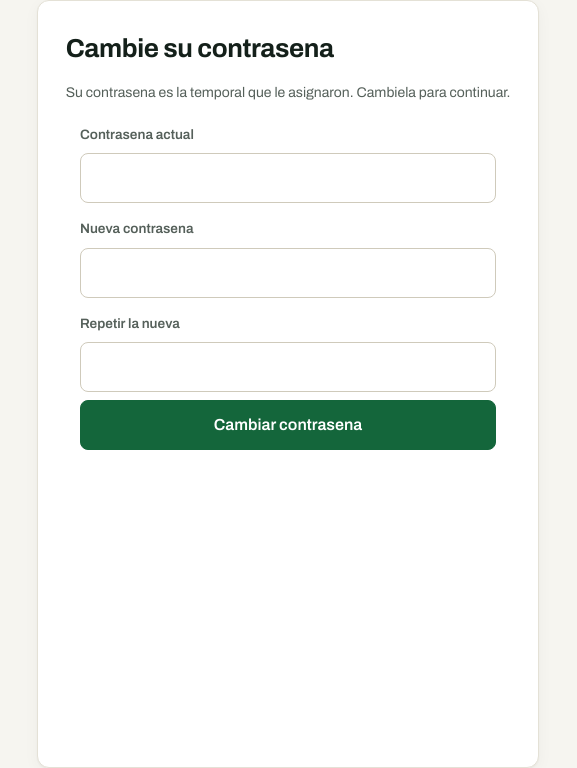
Test case: CambiarClave › si el servidor dice que la actual no coincide, lo muestra
This screenshot has width=577, height=768.
Type "equivocada" into the password field labelled "Contrasena actual" at x=288, y=178, box [80,153,496,203]
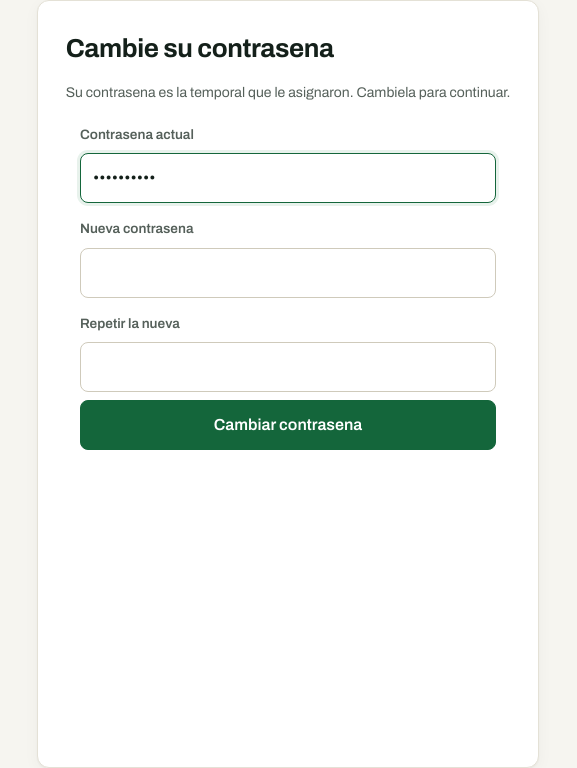
Type "unaClaveNueva" into the password field labelled "Nueva contrasena" at x=288, y=273, box [80,248,496,298]
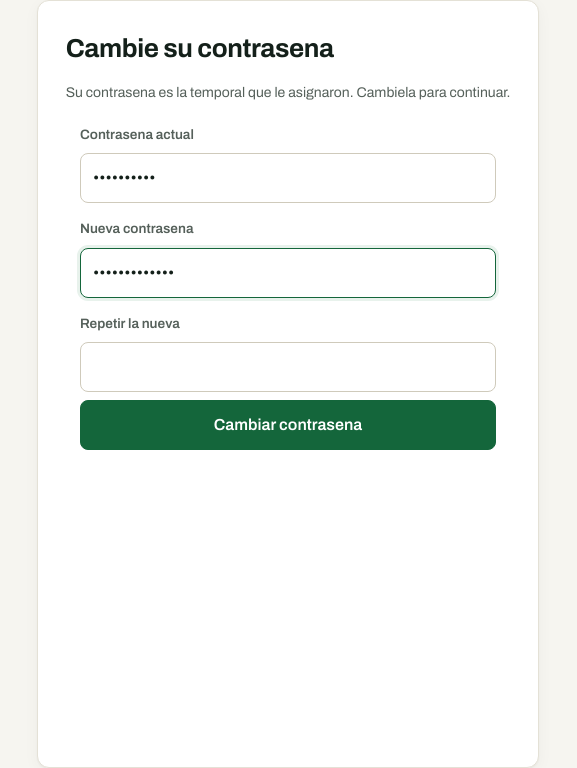
Type "unaClaveNueva" into the password field labelled "Repetir la nueva" at x=288, y=367, box [80,342,496,392]
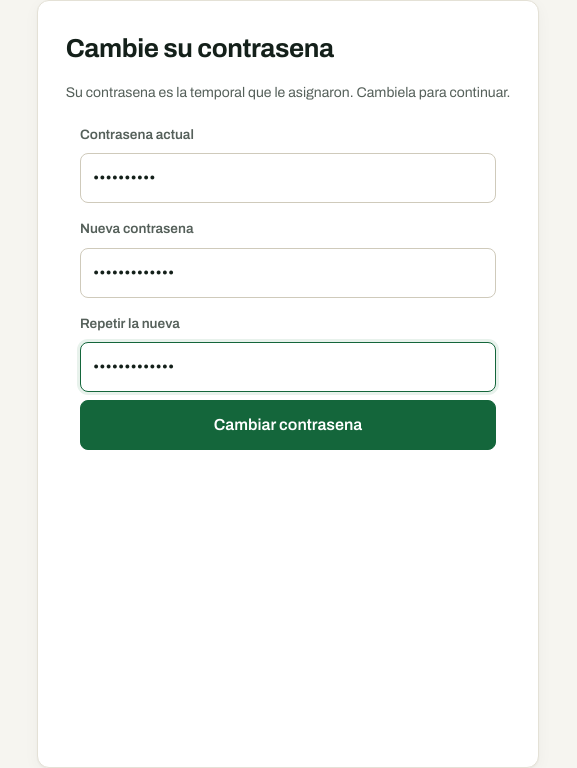
Click the button "Cambiar contrasena" at x=288, y=425, box [80,400,496,450]
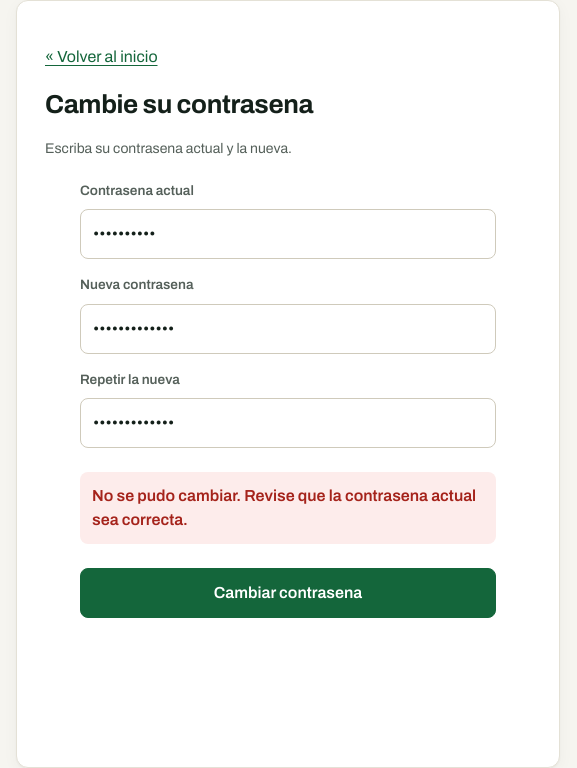
Now the message shows "actual", box [92,487,476,528]
